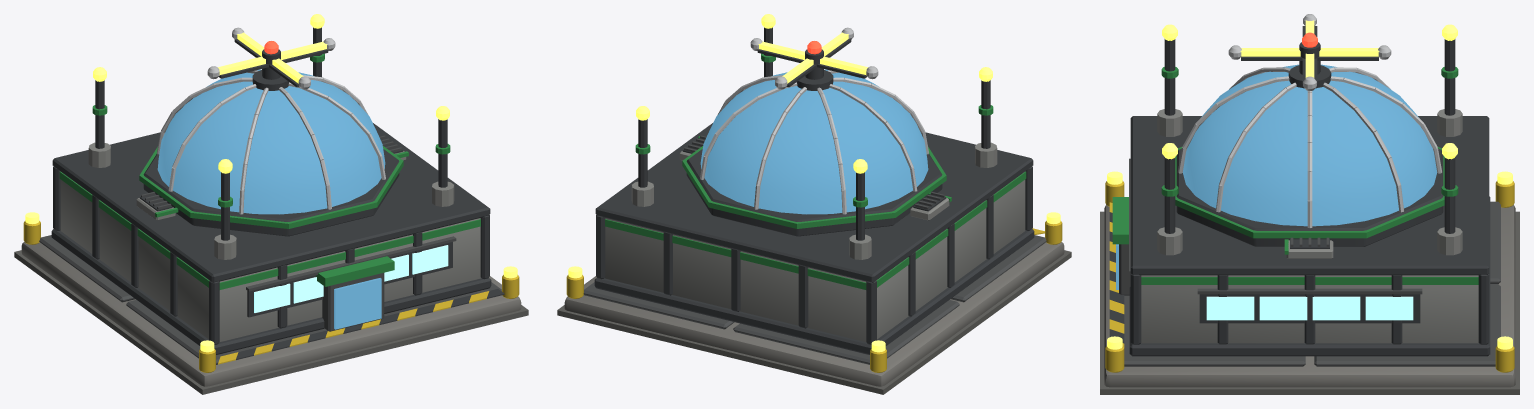
File: tech.glb
3 views of the same model, side by side, from view 1: azimuth 30°, elevation 25°; view 2: azimuth 150°, elevation 25°; view 3: azimuth 270°, elevation 25° (orthographic). The views are drawn at different scales.
Parts seen in each view (by area): view 1: Tech_Walls, Tech_Frame, Tech_Foundation, Tech_Details, Tech_spin; view 2: Tech_Walls, Tech_Frame, Tech_Foundation, Tech_Details, Tech_spin; view 3: Tech_Walls, Tech_Frame, Tech_Foundation, Tech_Details, Tech_spin.
Boxes of the visible parts, x1,y1,x2,y2 form: Tech_Walls: (59,69,480,341); Tech_Frame: (51,70,491,354); Tech_Foundation: (14,212,528,394); Tech_Details: (88,14,456,329); Tech_spin: (207,27,335,89); Tech_Walls: (605,69,1026,341); Tech_Frame: (594,70,1034,354); Tech_Foundation: (557,212,1071,394); Tech_Details: (631,14,997,259); Tech_spin: (750,27,878,89); Tech_Walls: (1112,64,1478,343); Tech_Frame: (1129,65,1490,356); Tech_Foundation: (1100,171,1519,394); Tech_Details: (1116,24,1462,294); Tech_spin: (1228,14,1391,90).
Bounding box in the file's own units: 1.98 × 1.42 × 1.98.
